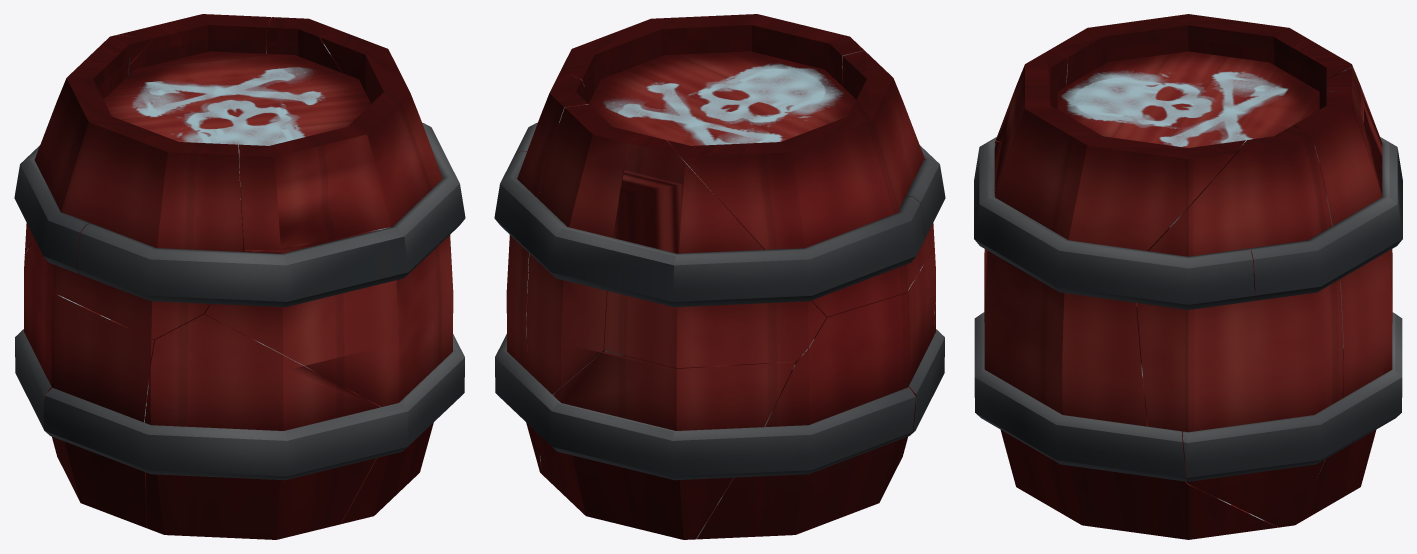
Rendered from Fractured_TNTBarrel.fbx.
The picture shows the model from 3 angles, left to right: view 1: azimuth 30°, elevation 25°; view 2: azimuth 150°, elevation 25°; view 3: azimuth 270°, elevation 25°; orthographic projection.
Parts seen in each view (by area): view 1: polySurface3_cell.001, polySurface3_cell.006, polySurface3_cell.002, Metal_Ring1.001_cell.001, Metal_Ring2.001_cell.001, polySurface3_cell.009, Lid, polySurface3_cell.008, Metal_Ring1.001_cell, polySurface3_cell.007, polySurface3_cell.004, polySurface3_cell.005 (+2 smaller); view 2: polySurface3_cell.001, polySurface3_cell.008, Metal_Ring1.001_cell, polySurface3_cell.003, polySurface3_cell, Metal_Ring2.001_cell, Lid, polySurface3_cell.007, polySurface3_cell.002, polySurface3_cell.005, Metal_Ring1.001_cell.001, Metal_Ring2.001_cell.001; view 3: polySurface3_cell.005, polySurface3_cell.002, polySurface3_cell.009, Lid, Metal_Ring1.001_cell.001, polySurface3_cell.004, polySurface3_cell.007, Metal_Ring2.001_cell, Metal_Ring2.001_cell.001, polySurface3_cell.001, Metal_Ring1.001_cell, polySurface3_cell (+1 smaller).
Boxes of the visible parts, x1,y1,x2,y2 form: polySurface3_cell.001: (30,35,243,339); polySurface3_cell.006: (144,314,380,539); polySurface3_cell.002: (239,34,442,250); Metal_Ring1.001_cell.001: (76,122,465,307); Metal_Ring2.001_cell.001: (43,334,464,480); polySurface3_cell.009: (203,224,453,406); Lid: (103,51,370,163); polySurface3_cell.008: (24,243,156,527); Metal_Ring1.001_cell: (14,145,90,274); polySurface3_cell.007: (167,14,271,181); polySurface3_cell.004: (341,422,433,523); polySurface3_cell.005: (266,17,349,73); polySurface3_cell.001: (667,50,934,316); polySurface3_cell.008: (696,247,935,539); Metal_Ring1.001_cell: (494,151,925,307); polySurface3_cell.003: (604,134,826,368); polySurface3_cell: (539,350,795,539); Metal_Ring2.001_cell: (495,334,915,480); Lid: (589,51,856,151); polySurface3_cell.007: (526,104,640,394); polySurface3_cell.002: (561,14,864,100); polySurface3_cell.005: (506,71,589,473); Metal_Ring1.001_cell.001: (514,122,945,237); Metal_Ring2.001_cell.001: (907,329,944,436); polySurface3_cell.005: (1137,126,1343,527); polySurface3_cell.002: (994,52,1245,250); polySurface3_cell.009: (984,140,1147,426); Lid: (1057,51,1319,147); Metal_Ring1.001_cell.001: (974,137,1254,309); polySurface3_cell.004: (1000,430,1277,539); polySurface3_cell.007: (1292,91,1392,397); Metal_Ring2.001_cell: (1182,312,1402,481); Metal_Ring2.001_cell.001: (974,312,1187,481); polySurface3_cell.001: (1046,14,1353,98); Metal_Ring1.001_cell: (1250,137,1402,300); polySurface3_cell: (1297,253,1392,523).
Bounding box in the file's own units: 108 × 102 × 102.
